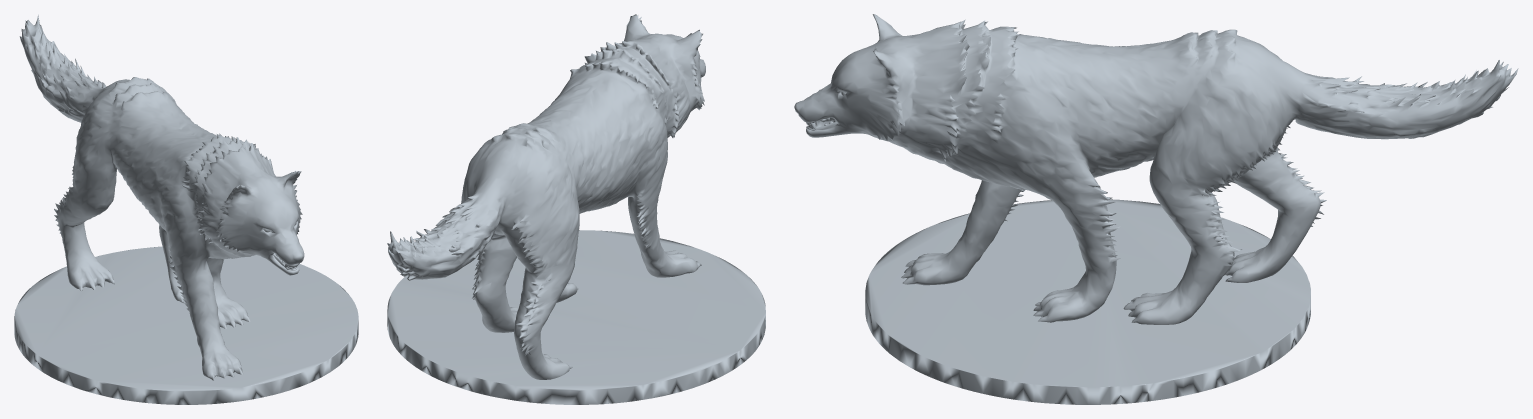
File: dire-wolf.glb
3 views of the same model, side by side, from view 1: azimuth 30°, elevation 25°; view 2: azimuth 150°, elevation 25°; view 3: azimuth 270°, elevation 25° (orthographic). The views are drawn at different scales.
Parts seen in each view (by area): view 1: Dire_Wolf_Updated.001; view 2: Dire_Wolf_Updated.001; view 3: Dire_Wolf_Updated.001.
Boxes of the visible parts, x1,y1,x2,y2 form: Dire_Wolf_Updated.001: (14, 14, 358, 404); Dire_Wolf_Updated.001: (387, 14, 765, 404); Dire_Wolf_Updated.001: (794, 14, 1518, 404).
Size of the model in its own units: 50.49 by 36.06 by 82.03.
Materials: 1 (1 with a texture image).
